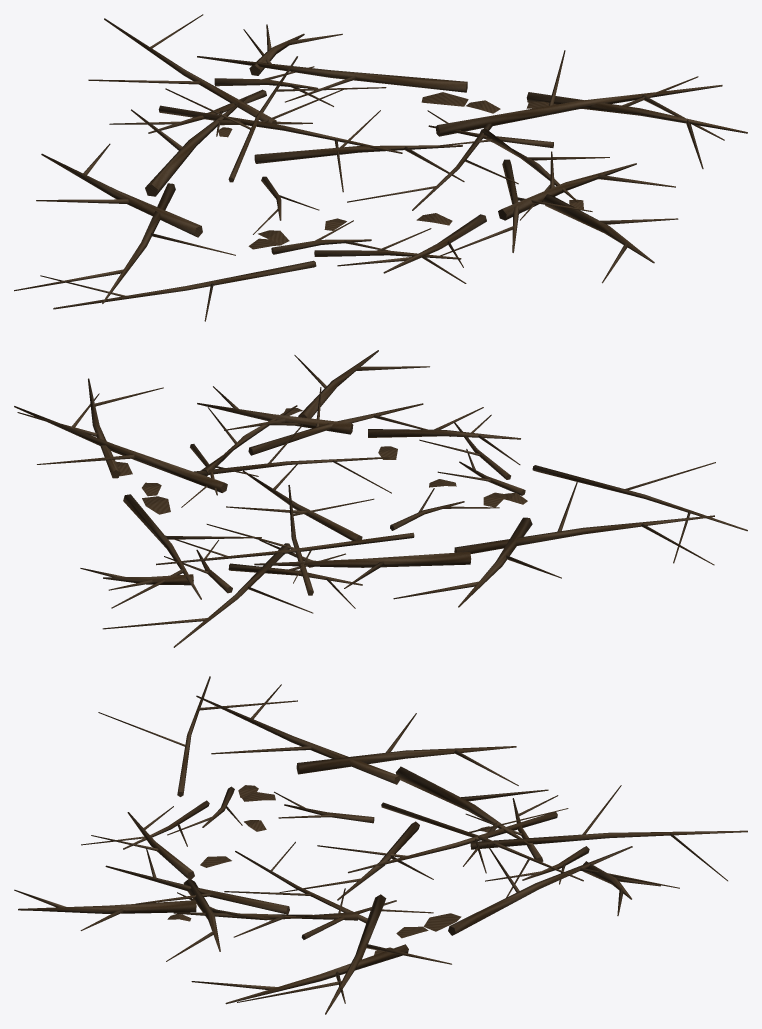
Rendered from Small_Deadwood_Scatter_02_LOD1.fbx.
3 renders of one model, top to bottom at view 1: azimuth 30°, elevation 25°; view 2: azimuth 150°, elevation 25°; view 3: azimuth 270°, elevation 25°, orthographic. The views are drawn at different scales.
Parts seen in each view (by area): view 1: Small_Deadwood_Scatter_02_LOD1_Mesh; view 2: Small_Deadwood_Scatter_02_LOD1_Mesh; view 3: Small_Deadwood_Scatter_02_LOD1_Mesh.
Boxes of the visible parts, x1=… form: Small_Deadwood_Scatter_02_LOD1_Mesh: x1=14, y1=14, x2=747, y2=321; Small_Deadwood_Scatter_02_LOD1_Mesh: x1=14, y1=350, x2=747, y2=647; Small_Deadwood_Scatter_02_LOD1_Mesh: x1=14, y1=676, x2=747, y2=1014.
Size of the model in its own units: 196 by 4.88 by 180.
